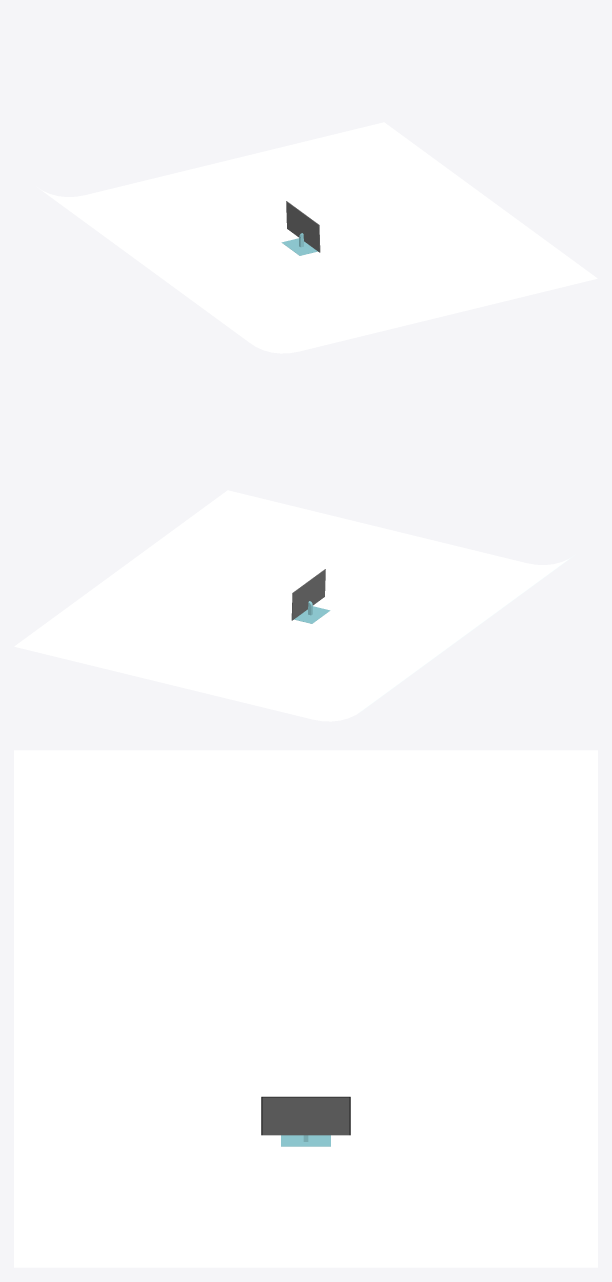
The model's file is broadcaster.gltf.
3 renders of one model, top to bottom at view 1: azimuth 30°, elevation 25°; view 2: azimuth 150°, elevation 25°; view 3: azimuth 270°, elevation 25°, orthographic. The views are drawn at different scales.
Parts seen in each view (by area): view 1: Plane, Cube.002; view 2: Plane, Cube.002; view 3: Plane, Cube.002.
Boxes of the visible parts, bbox=[...] form: Plane: bbox=[37, 122, 597, 353]; Cube.002: bbox=[286, 201, 320, 252]; Plane: bbox=[14, 490, 574, 721]; Cube.002: bbox=[291, 569, 325, 620]; Plane: bbox=[14, 750, 597, 1267]; Cube.002: bbox=[261, 1096, 350, 1135].
Bounding box in the file's own units: 378 × 193 × 378.
